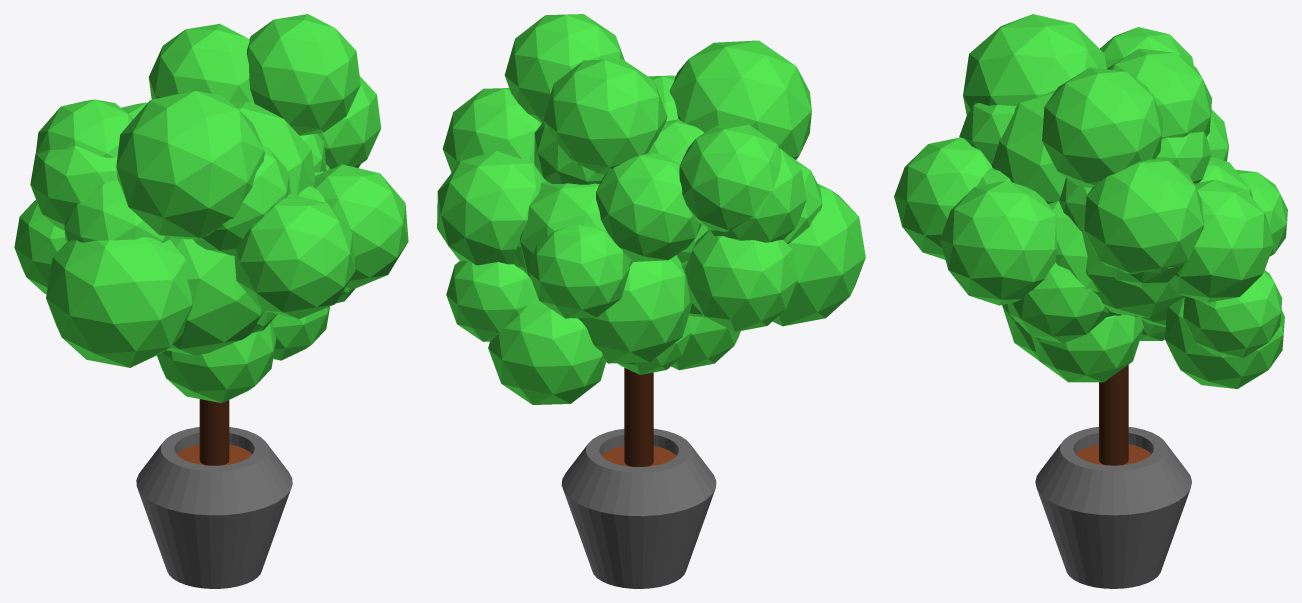
The model's file is tree.gltf.
3 views of the same model, side by side, from view 1: azimuth 30°, elevation 25°; view 2: azimuth 150°, elevation 25°; view 3: azimuth 270°, elevation 25° (orthographic).
Visible parts, largest first — view 1: Icosphere, Vase, stem, Soil; view 2: Icosphere, Vase, stem, Soil; view 3: Icosphere, Vase, stem, Soil.
Part boxes in pixels (x1,y1,x2,y2): Icosphere: (14, 14, 408, 402); Vase: (136, 427, 292, 588); stem: (199, 399, 229, 465); Soil: (177, 444, 251, 465); Icosphere: (437, 14, 865, 404); Vase: (561, 428, 716, 588); stem: (624, 367, 653, 466); Soil: (602, 446, 675, 466); Icosphere: (894, 14, 1287, 389); Vase: (1035, 427, 1191, 588); stem: (1099, 365, 1128, 465); Soil: (1076, 444, 1151, 464).
Bounding box in the file's own units: 8.75 × 12.36 × 8.25.
